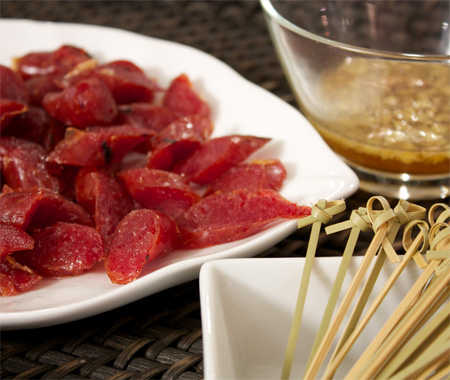chinese_sausage: (188, 196, 280, 242), (189, 135, 269, 179), (117, 221, 176, 279), (52, 129, 139, 164), (220, 157, 299, 194), (41, 221, 96, 271), (78, 168, 124, 224), (149, 117, 198, 162), (132, 170, 181, 212), (63, 87, 125, 118), (85, 65, 142, 93), (26, 47, 83, 75), (1, 191, 44, 224), (16, 155, 54, 188), (174, 86, 215, 114), (17, 114, 62, 136), (1, 269, 45, 290), (1, 231, 39, 252)
